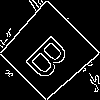B: (23, 26, 79, 83)
